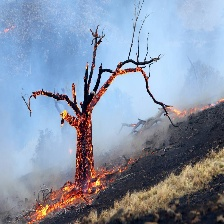fire: (54, 97, 107, 172), (29, 172, 104, 221), (163, 102, 222, 118)
smoke: (2, 2, 221, 102), (1, 114, 58, 194), (101, 95, 152, 154)
